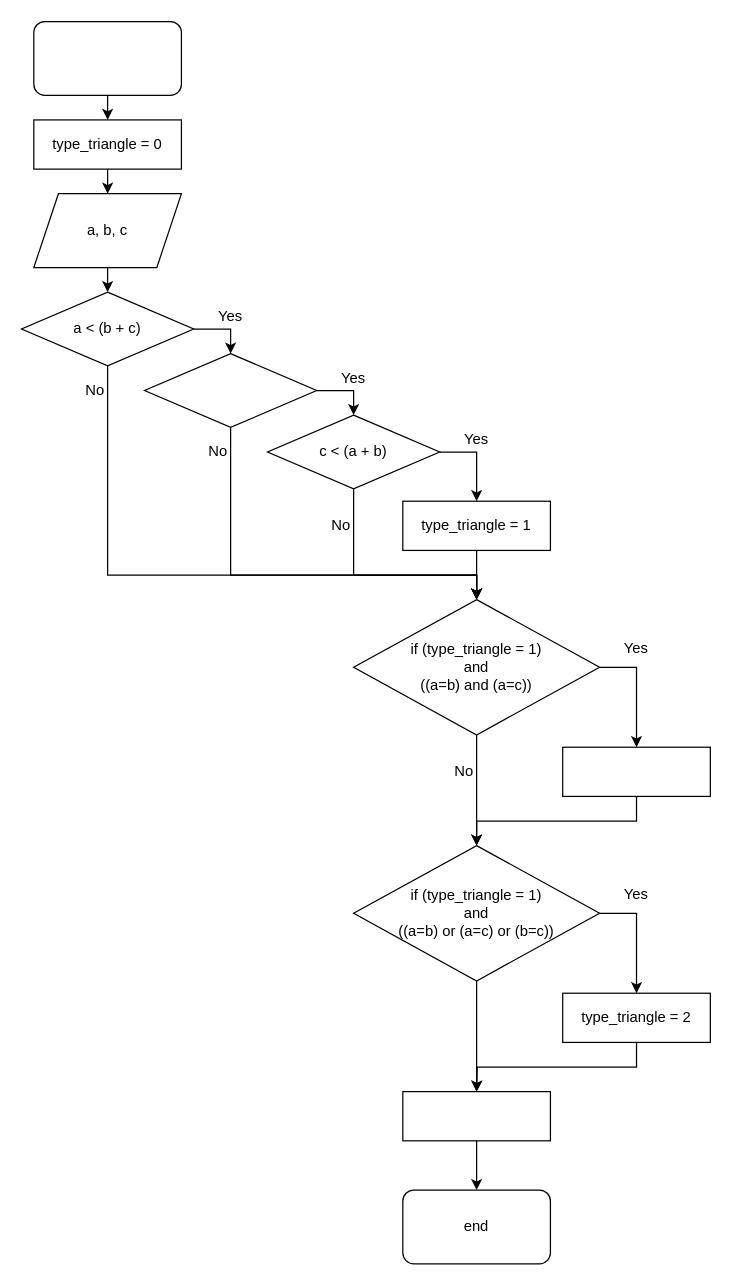
The diagram is 732 pixels wide and 1285 high, and some of its shapes have lost their labels. Here are the shapes that lost their labels. From the top down, the box of each, then its label:
(33, 20, 181, 95): begin
(143, 352, 317, 427): b < (a + c)
(561, 746, 710, 796): type_triangle = 3
(402, 1090, 550, 1141): print results
